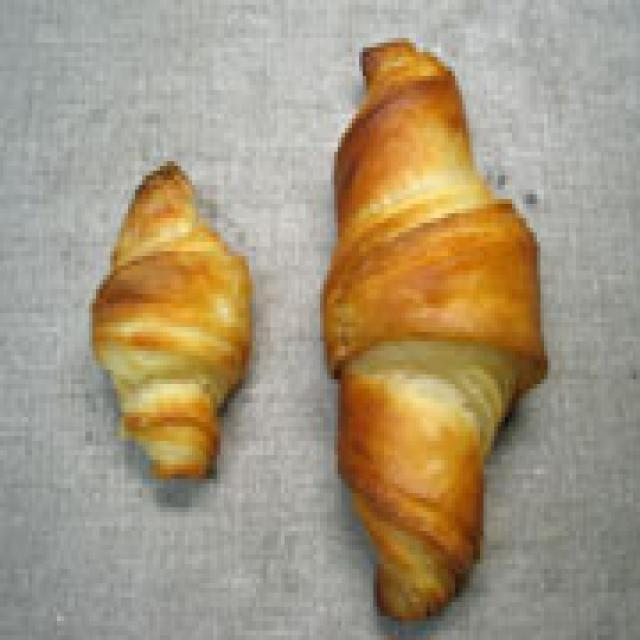Croissant: (296, 30, 564, 640), (90, 158, 264, 488)
